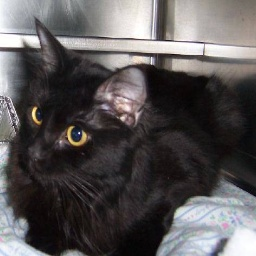cat: (8, 49, 221, 248)
